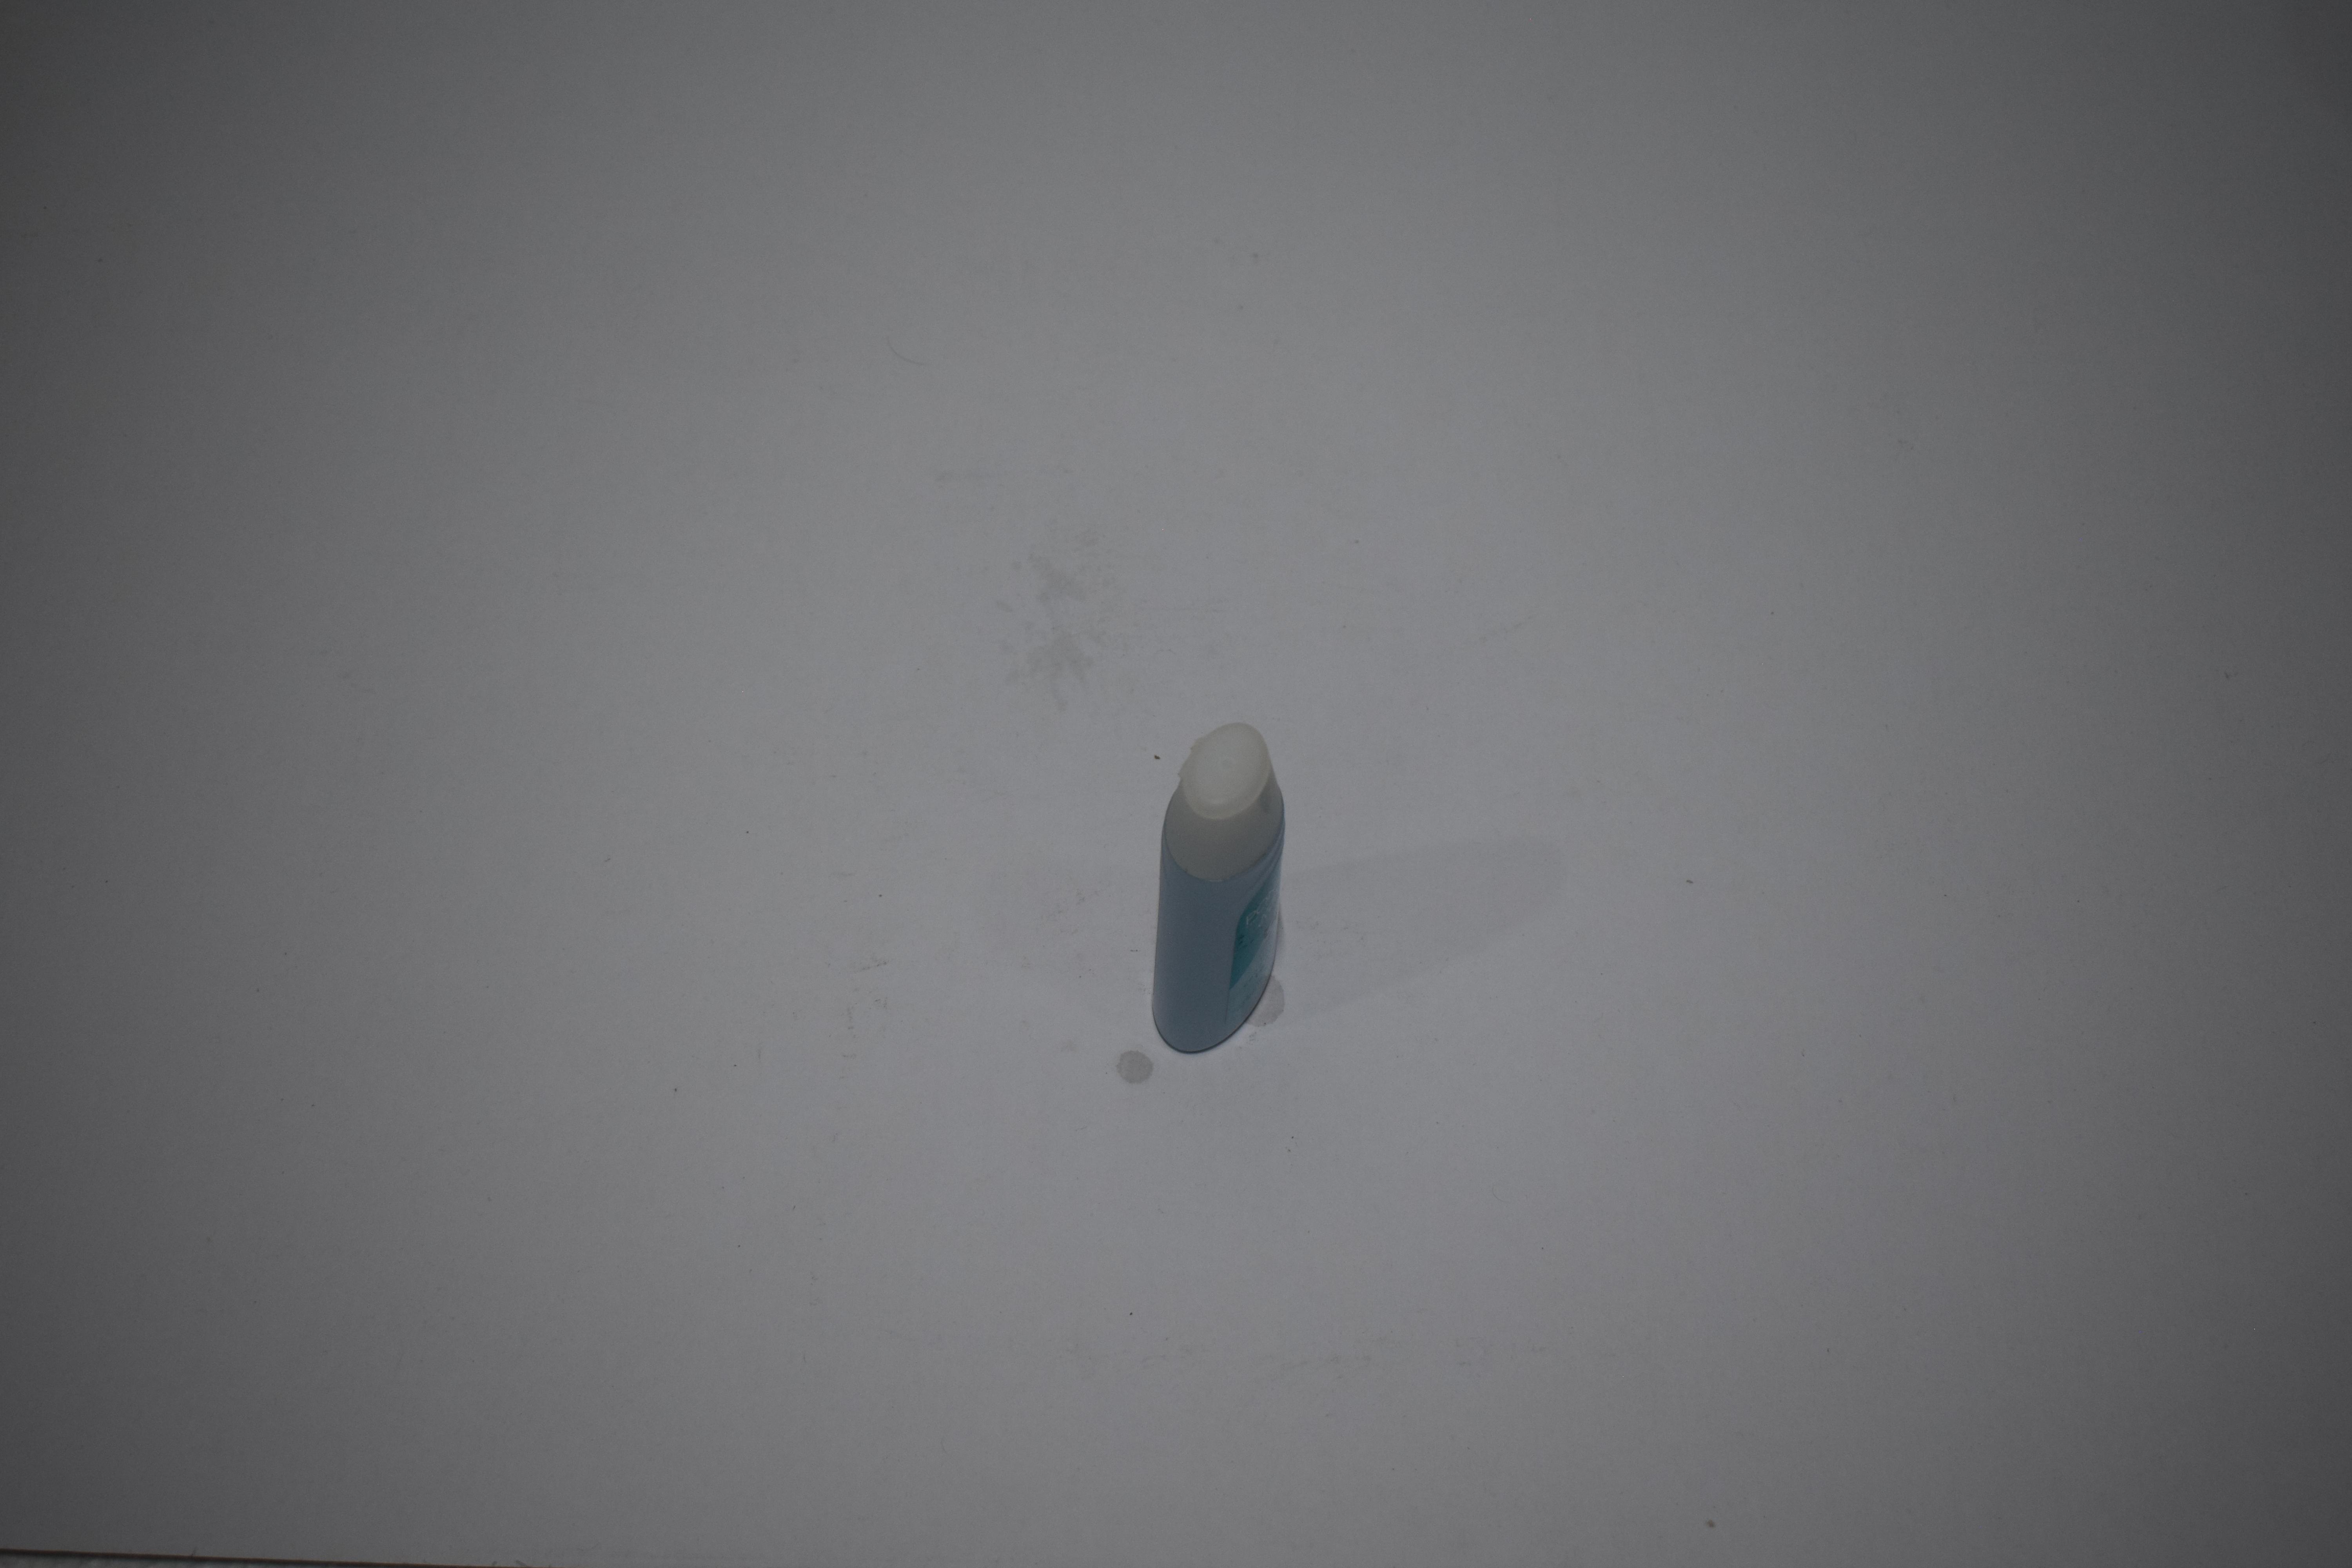bottle: (0, 0, 110, 275)
